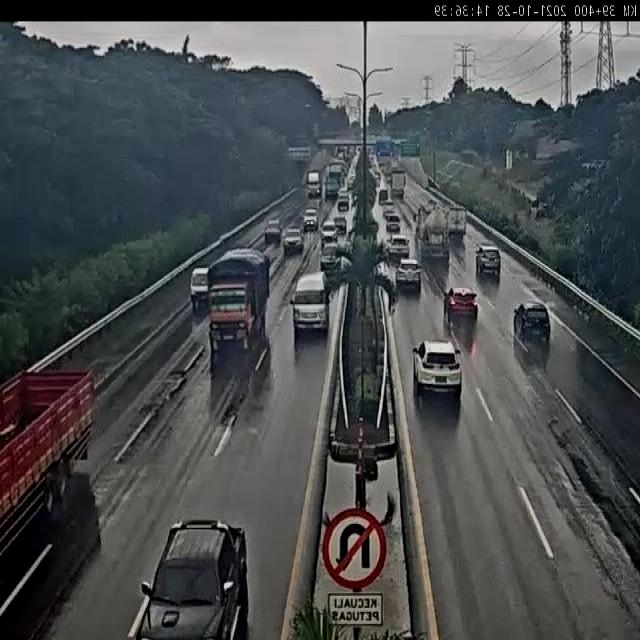Car: (146, 528, 252, 640), (411, 339, 462, 408), (509, 304, 556, 342), (440, 286, 486, 324), (474, 248, 500, 280), (190, 265, 208, 307), (396, 264, 422, 290), (319, 242, 340, 270), (387, 236, 410, 258), (262, 215, 282, 240), (322, 223, 339, 242), (286, 234, 302, 254), (384, 217, 402, 233), (304, 211, 318, 231), (338, 191, 349, 213), (380, 201, 396, 216), (379, 188, 389, 201)
Truck: (0, 367, 105, 553), (210, 256, 272, 358), (416, 203, 452, 263), (451, 212, 469, 241), (306, 171, 323, 200), (391, 170, 407, 200), (327, 174, 344, 200)
Van: (292, 276, 331, 339)
